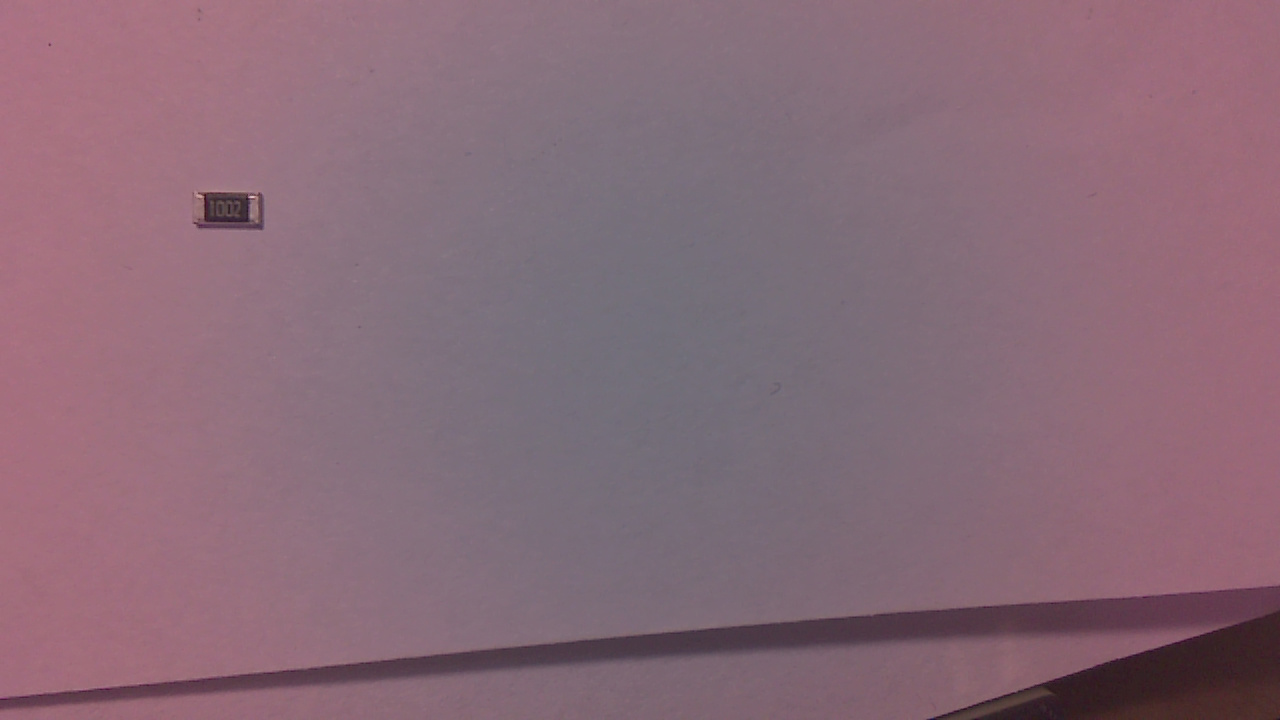Resistor: (196, 193, 272, 237)
